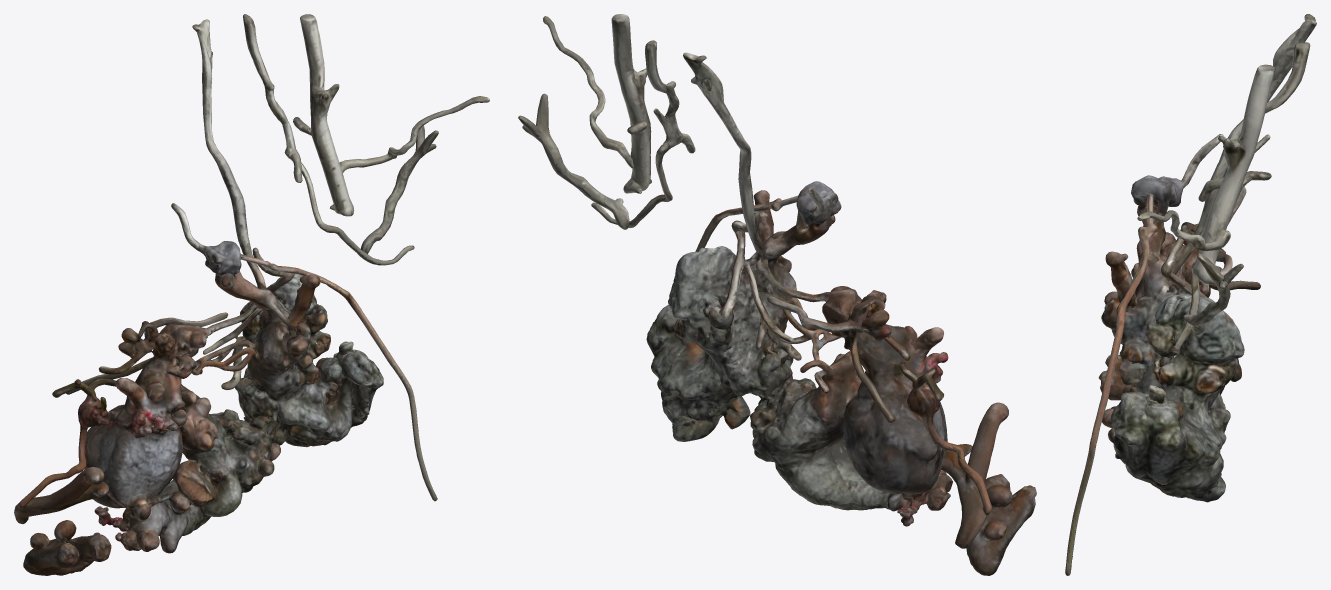
File: dead-snag-v13.glb
The picture shows the model from 3 angles, left to right: view 1: azimuth 30°, elevation 25°; view 2: azimuth 150°, elevation 25°; view 3: azimuth 270°, elevation 25°; orthographic projection. The views are drawn at different scales.
Visible parts, largest first — view 1: geometry_0; view 2: geometry_0; view 3: geometry_0.
Part boxes in pixels (left/top/right/bottom): geometry_0: left=14, top=14, right=489, bottom=575; geometry_0: left=518, top=14, right=1036, bottom=575; geometry_0: left=1065, top=14, right=1316, bottom=575.
Size of the model in its own units: 0.9002 by 0.8997 by 0.3943.
Materials: 1 (1 with a texture image).
